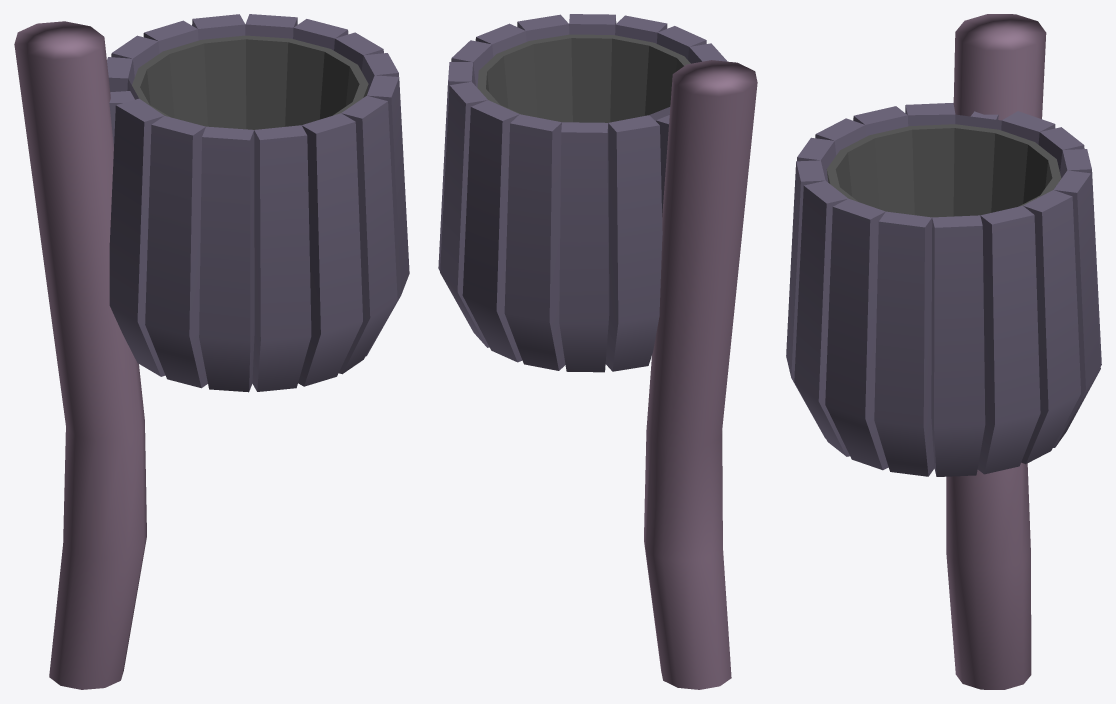
File: props.fbx
The picture shows the model from 3 angles, left to right: view 1: azimuth 30°, elevation 25°; view 2: azimuth 150°, elevation 25°; view 3: azimuth 270°, elevation 25°; orthographic projection. The views are drawn at different scales.
Parts seen in each view (by area): view 1: trash_a; view 2: trash_a; view 3: trash_a.
Part boxes in pixels (box(x1,y1,x2,y2)): trash_a: box(14, 14, 409, 689); trash_a: box(438, 14, 757, 689); trash_a: box(786, 14, 1101, 689).
Size of the model in its own units: 1.56 by 2.8 by 1.27.
